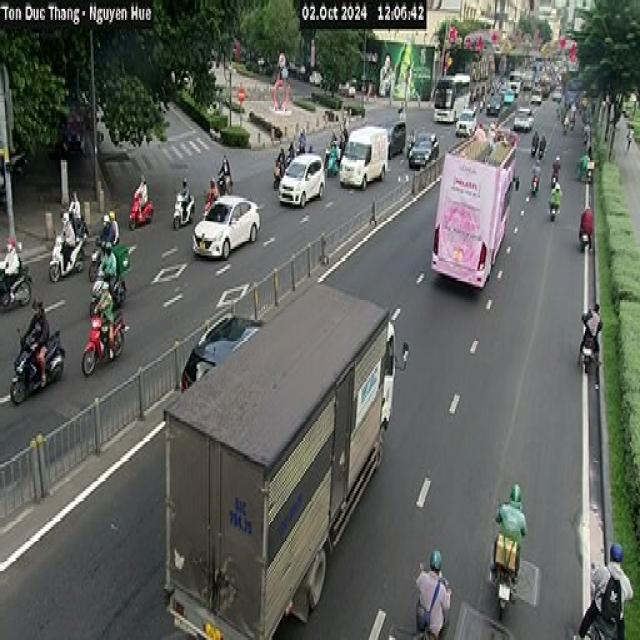bus: (430, 122, 519, 289)
car: (180, 311, 262, 393), (191, 193, 260, 258), (277, 151, 325, 207), (408, 131, 438, 167)
motorcycle: (9, 326, 65, 404), (80, 309, 129, 375), (48, 231, 86, 282), (0, 260, 31, 311), (171, 189, 195, 229), (128, 191, 152, 229), (548, 193, 560, 220), (530, 169, 540, 195)
person: (578, 542, 634, 638), (415, 549, 451, 638), (21, 296, 49, 386), (94, 280, 115, 358), (1, 236, 20, 302), (132, 173, 148, 216)
truck: (162, 280, 398, 638)
